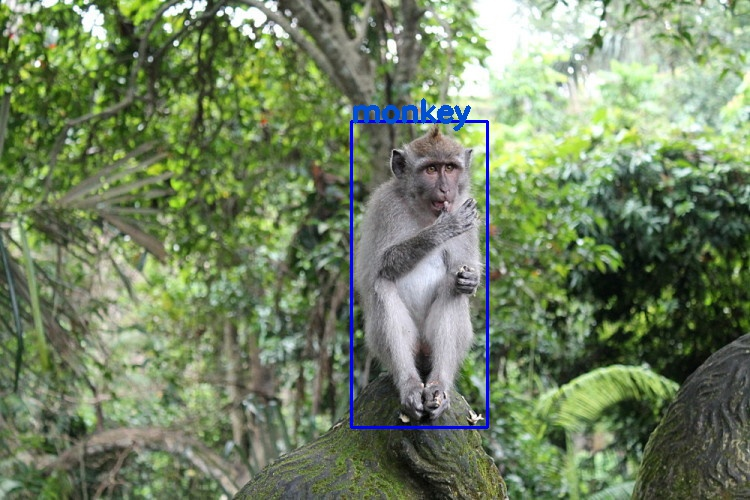monkey: (351, 121, 487, 427)
